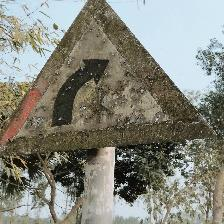Right-turn: (0, 0, 217, 153)
